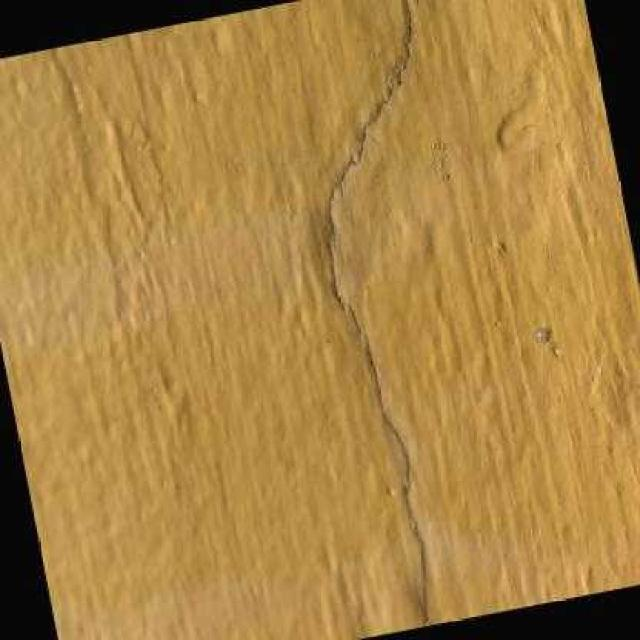D00: (321, 0, 430, 626)
